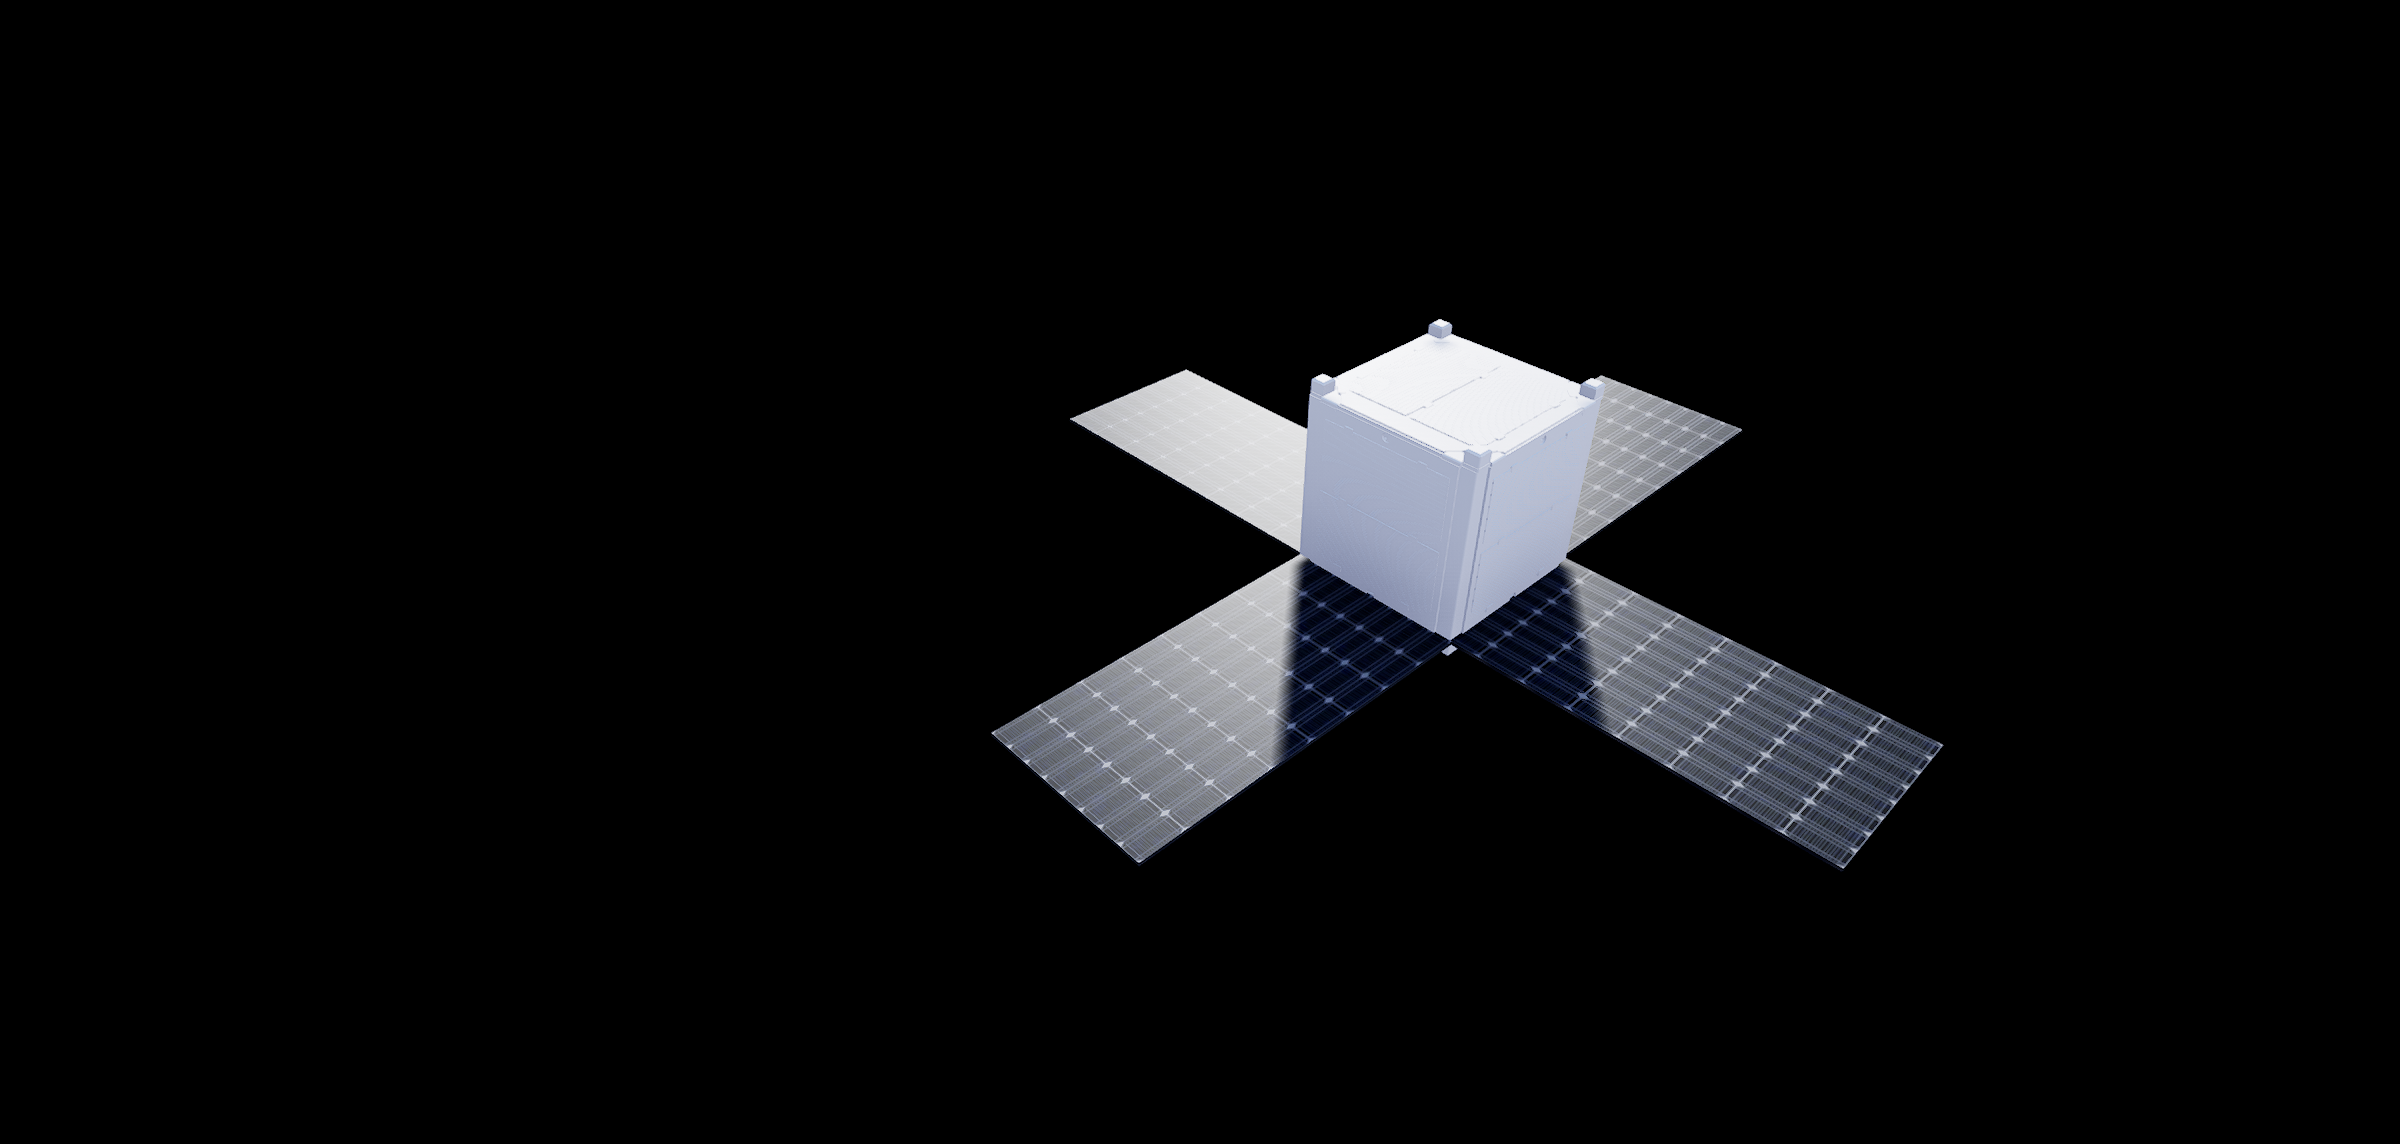satellite: (944, 276, 1978, 927)
